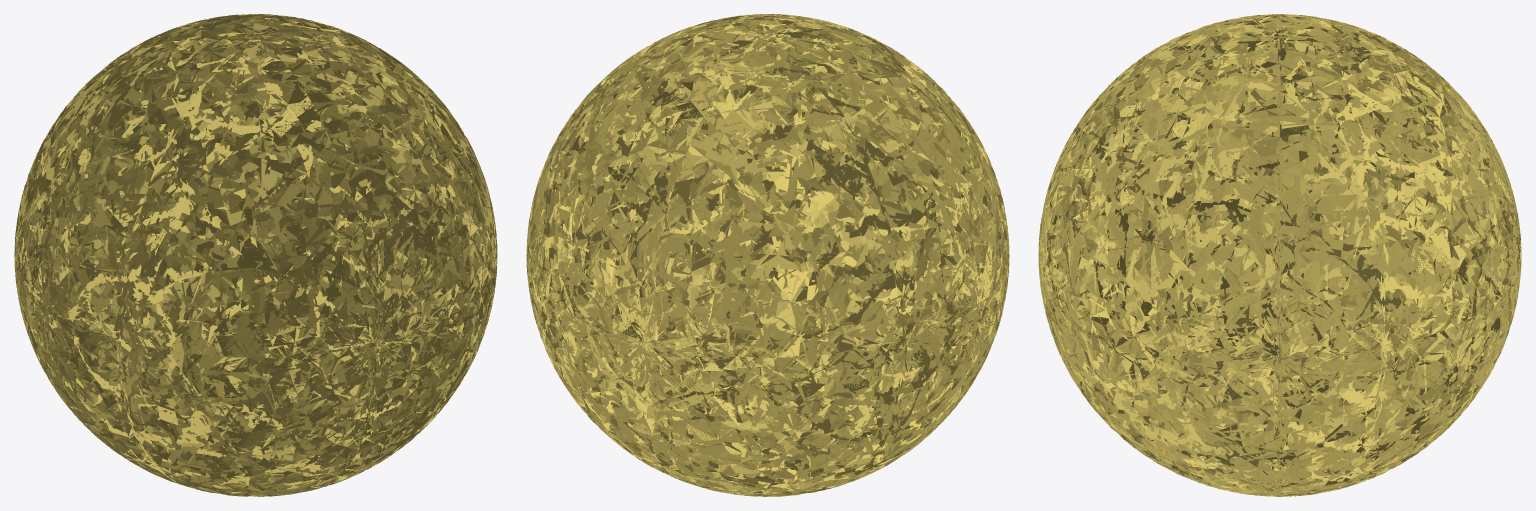
Rendered from grating_railing.glb.
3 renders of one model, left to right at view 1: azimuth 30°, elevation 25°; view 2: azimuth 150°, elevation 25°; view 3: azimuth 270°, elevation 25°, orthographic.
Parts seen in each view (by area): view 1: grating_railing; view 2: grating_railing; view 3: grating_railing.
Part boxes in pixels (x1,y1,x2,y2): grating_railing: [14, 14, 497, 496]; grating_railing: [526, 14, 1009, 496]; grating_railing: [1038, 14, 1521, 496].
Bounding box in the file's own units: 2 × 2 × 2.
